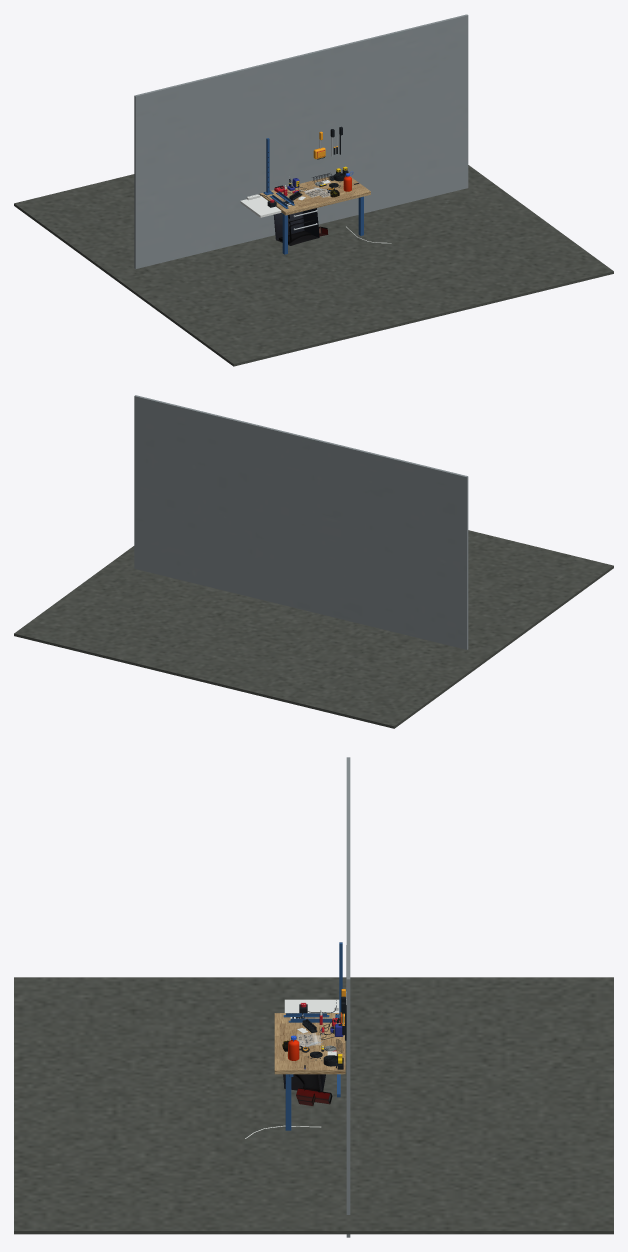
The model's file is viga.glb.
The picture shows the model from 3 angles, top to bottom: view 1: azimuth 30°, elevation 25°; view 2: azimuth 150°, elevation 25°; view 3: azimuth 270°, elevation 25°; orthographic projection. The views are drawn at different scales.
Visible parts, largest first — view 1: Workshop wall, Carpet, black_tool_drawers_mesh, Adjacent white worktop; view 2: Workshop wall, Carpet; view 3: Carpet, Workshop wall, Solid wood slab, Adjacent white worktop.
Part boxes in pixels (bbox=[...]): Workshop wall: bbox=[134, 14, 468, 268]; Carpet: bbox=[14, 165, 613, 366]; black_tool_drawers_mesh: bbox=[273, 208, 319, 245]; Adjacent white worktop: bbox=[240, 196, 281, 217]; Workshop wall: bbox=[134, 395, 468, 649]; Carpet: bbox=[14, 530, 613, 728]; Carpet: bbox=[14, 977, 613, 1234]; Workshop wall: bbox=[346, 757, 350, 1237]; Solid wood slab: bbox=[274, 1013, 345, 1074]; Adjacent white worktop: bbox=[284, 999, 339, 1012].
Size of the model in its own units: 8 by 3.8 by 8.
84 materials, 72 textured.
